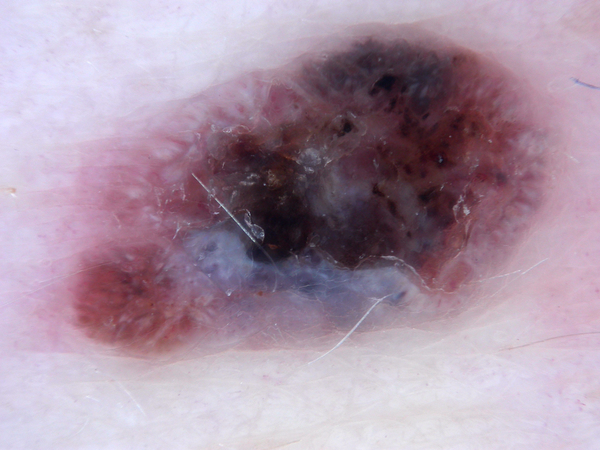Detected Lesion: (66, 42, 546, 353)
